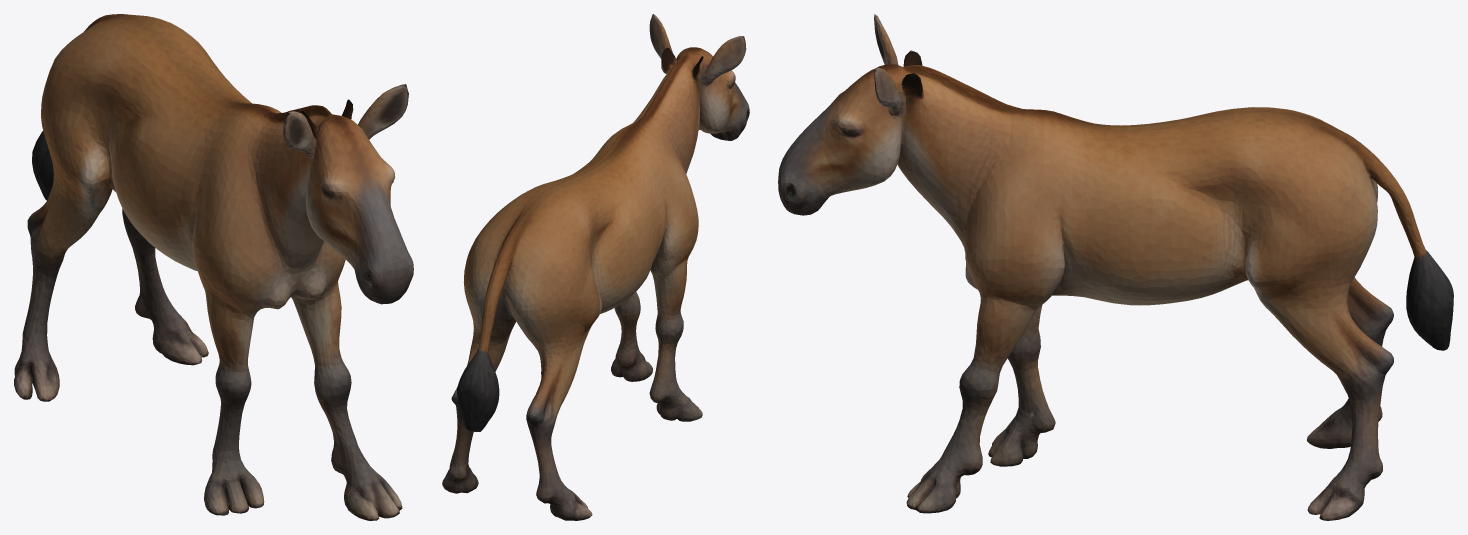
The picture shows the model from 3 angles, left to right: view 1: azimuth 30°, elevation 25°; view 2: azimuth 150°, elevation 25°; view 3: azimuth 270°, elevation 25°; orthographic projection. The views are drawn at different scales.
Visible parts, largest first — view 1: world; view 2: world; view 3: world.
Part boxes in pixels (x1,y1,x2,y2): world: [14, 14, 413, 520]; world: [442, 14, 749, 520]; world: [778, 14, 1453, 520].
Bounding box in the file's own units: 0.3126 × 0.7138 × 1.
Materials: 1 (1 with a texture image).
